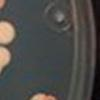orange: (0, 18, 16, 45), (0, 47, 12, 75), (28, 90, 60, 100), (0, 0, 7, 10)
